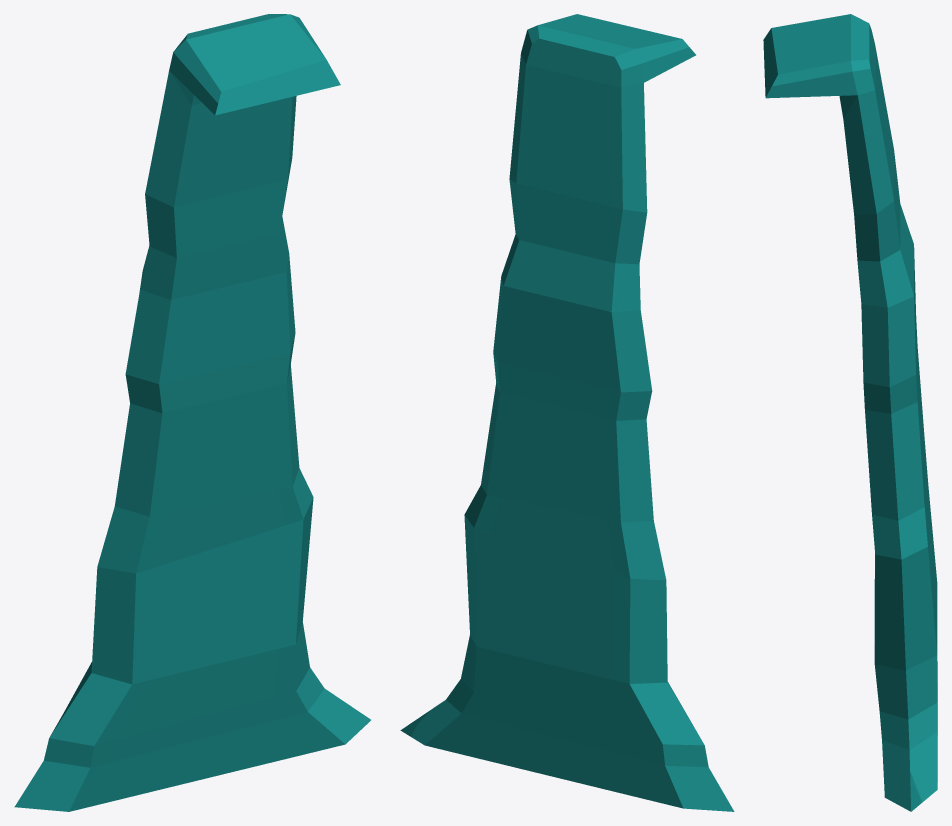
The model's file is CascadaAnimada_000005.obj.
The picture shows the model from 3 angles, left to right: view 1: azimuth 30°, elevation 25°; view 2: azimuth 150°, elevation 25°; view 3: azimuth 270°, elevation 25°; orthographic projection. The views are drawn at different scales.
Visible parts, largest first — view 1: Cube.053, Cube.054; view 2: Cube.053, Cube.054; view 3: Cube.053, Cube.054.
Part boxes in pixels (x1,y1,x2,y2): Cube.053: (14, 14, 370, 811); Cube.054: (169, 14, 340, 115); Cube.053: (400, 25, 734, 811); Cube.054: (538, 14, 695, 82); Cube.053: (839, 14, 937, 811); Cube.054: (763, 14, 857, 98).
Size of the model in its own units: 136 by 277 by 62.23.
